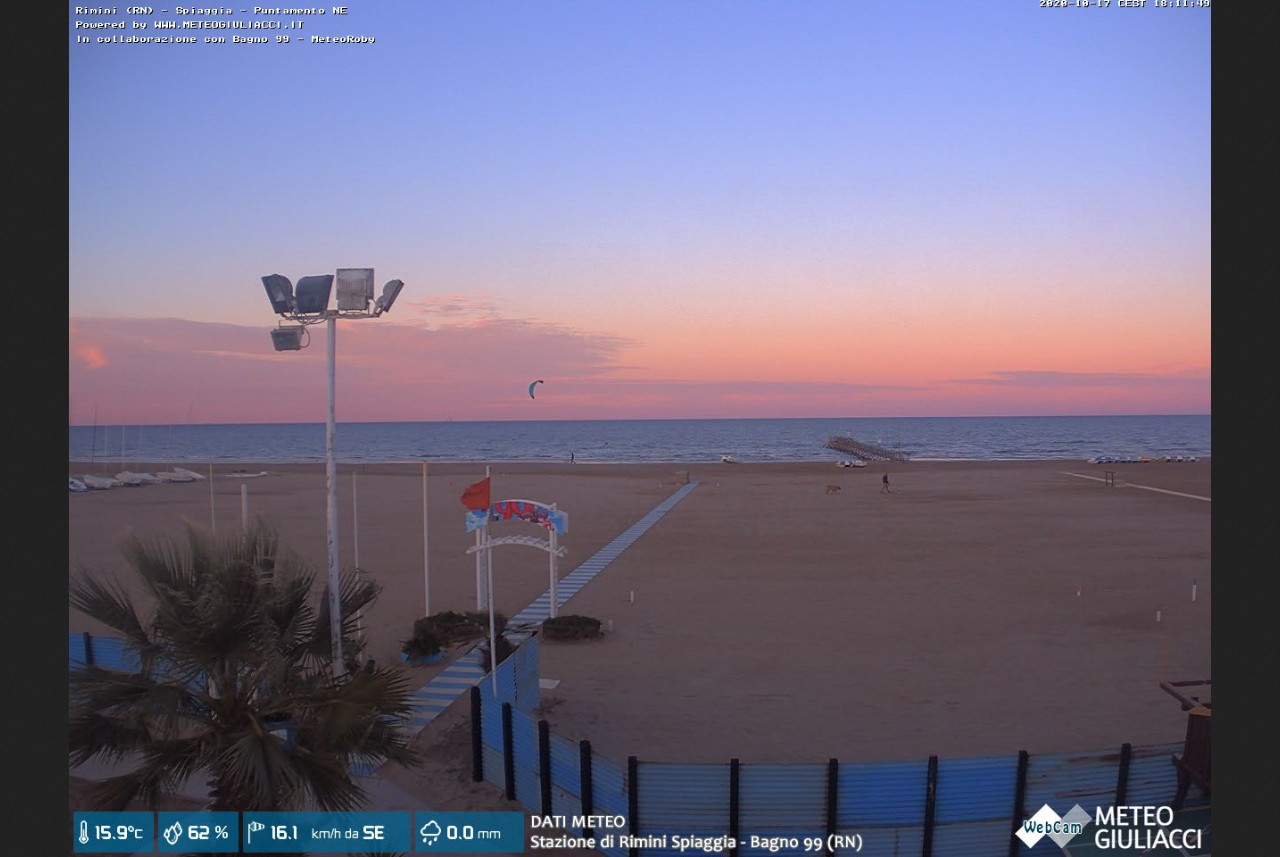yes: (457, 468, 496, 521)
